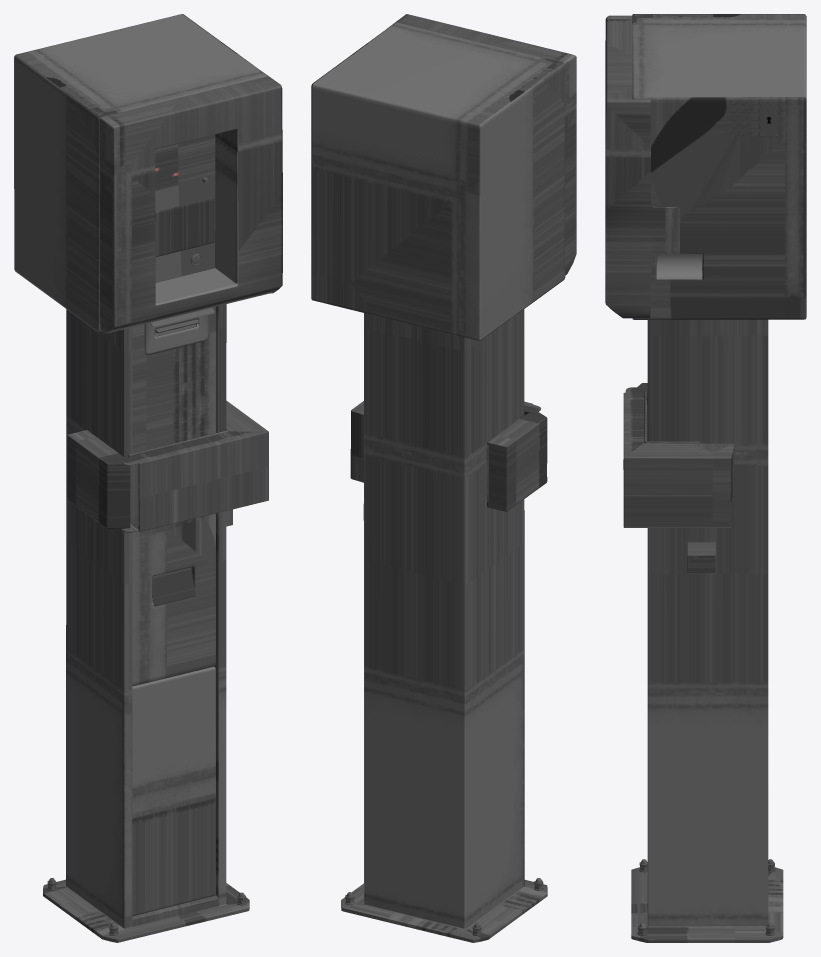
The picture shows the model from 3 angles, left to right: view 1: azimuth 30°, elevation 25°; view 2: azimuth 150°, elevation 25°; view 3: azimuth 270°, elevation 25°; orthographic projection. The views are drawn at different scales.
Visible parts, largest first — view 1: Parking_machine; view 2: Parking_machine; view 3: Parking_machine.
Part boxes in pixels (x1,y1,x2,y2): Parking_machine: (14, 14, 282, 942); Parking_machine: (311, 14, 576, 942); Parking_machine: (605, 14, 806, 942).
Bounding box in the file's own units: 23.33 × 108 × 23.2.
